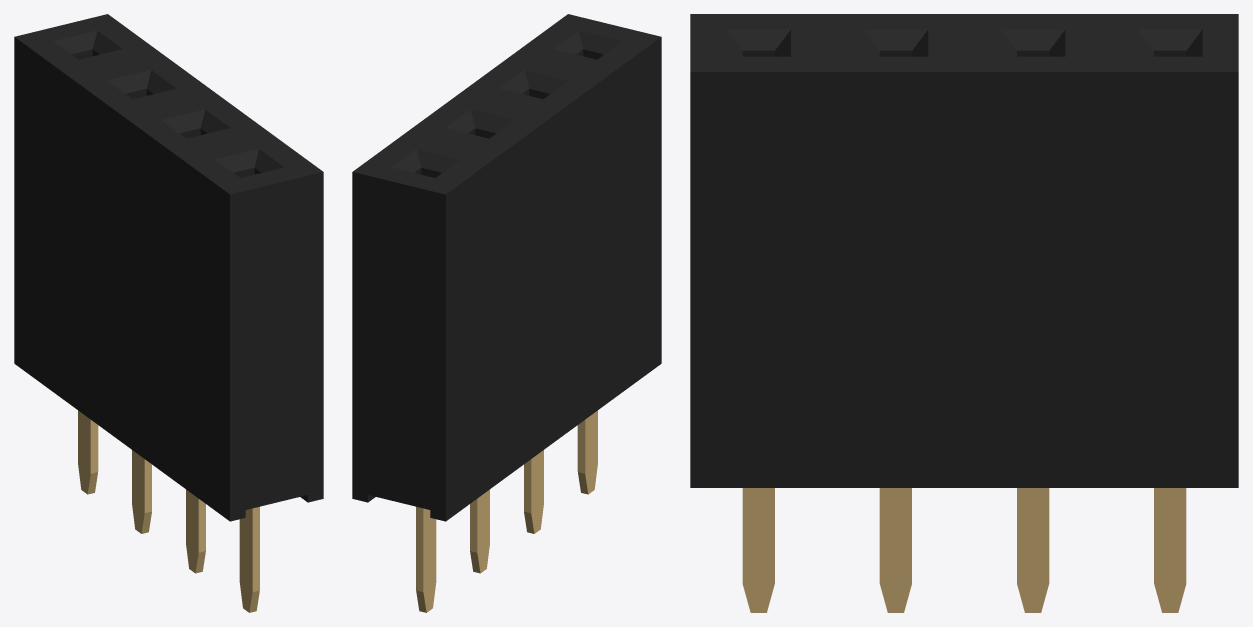
File: PinSocket_1x04_P2.54mm_Vertical.glb
3 views of the same model, side by side, from view 1: azimuth 30°, elevation 25°; view 2: azimuth 150°, elevation 25°; view 3: azimuth 270°, elevation 25° (orthographic). The views are drawn at different scales.
Visible parts, largest first — view 1: =>[0:1:1:3]; view 2: =>[0:1:1:3]; view 3: =>[0:1:1:3].
Part boxes in pixels (x1=…): =>[0:1:1:3]: x1=14, y1=14, x2=323, y2=612; =>[0:1:1:3]: x1=352, y1=14, x2=661, y2=612; =>[0:1:1:3]: x1=690, y1=14, x2=1238, y2=612.
Bounding box in the file's own units: 0.00254 × 0.0116 × 0.0102.
